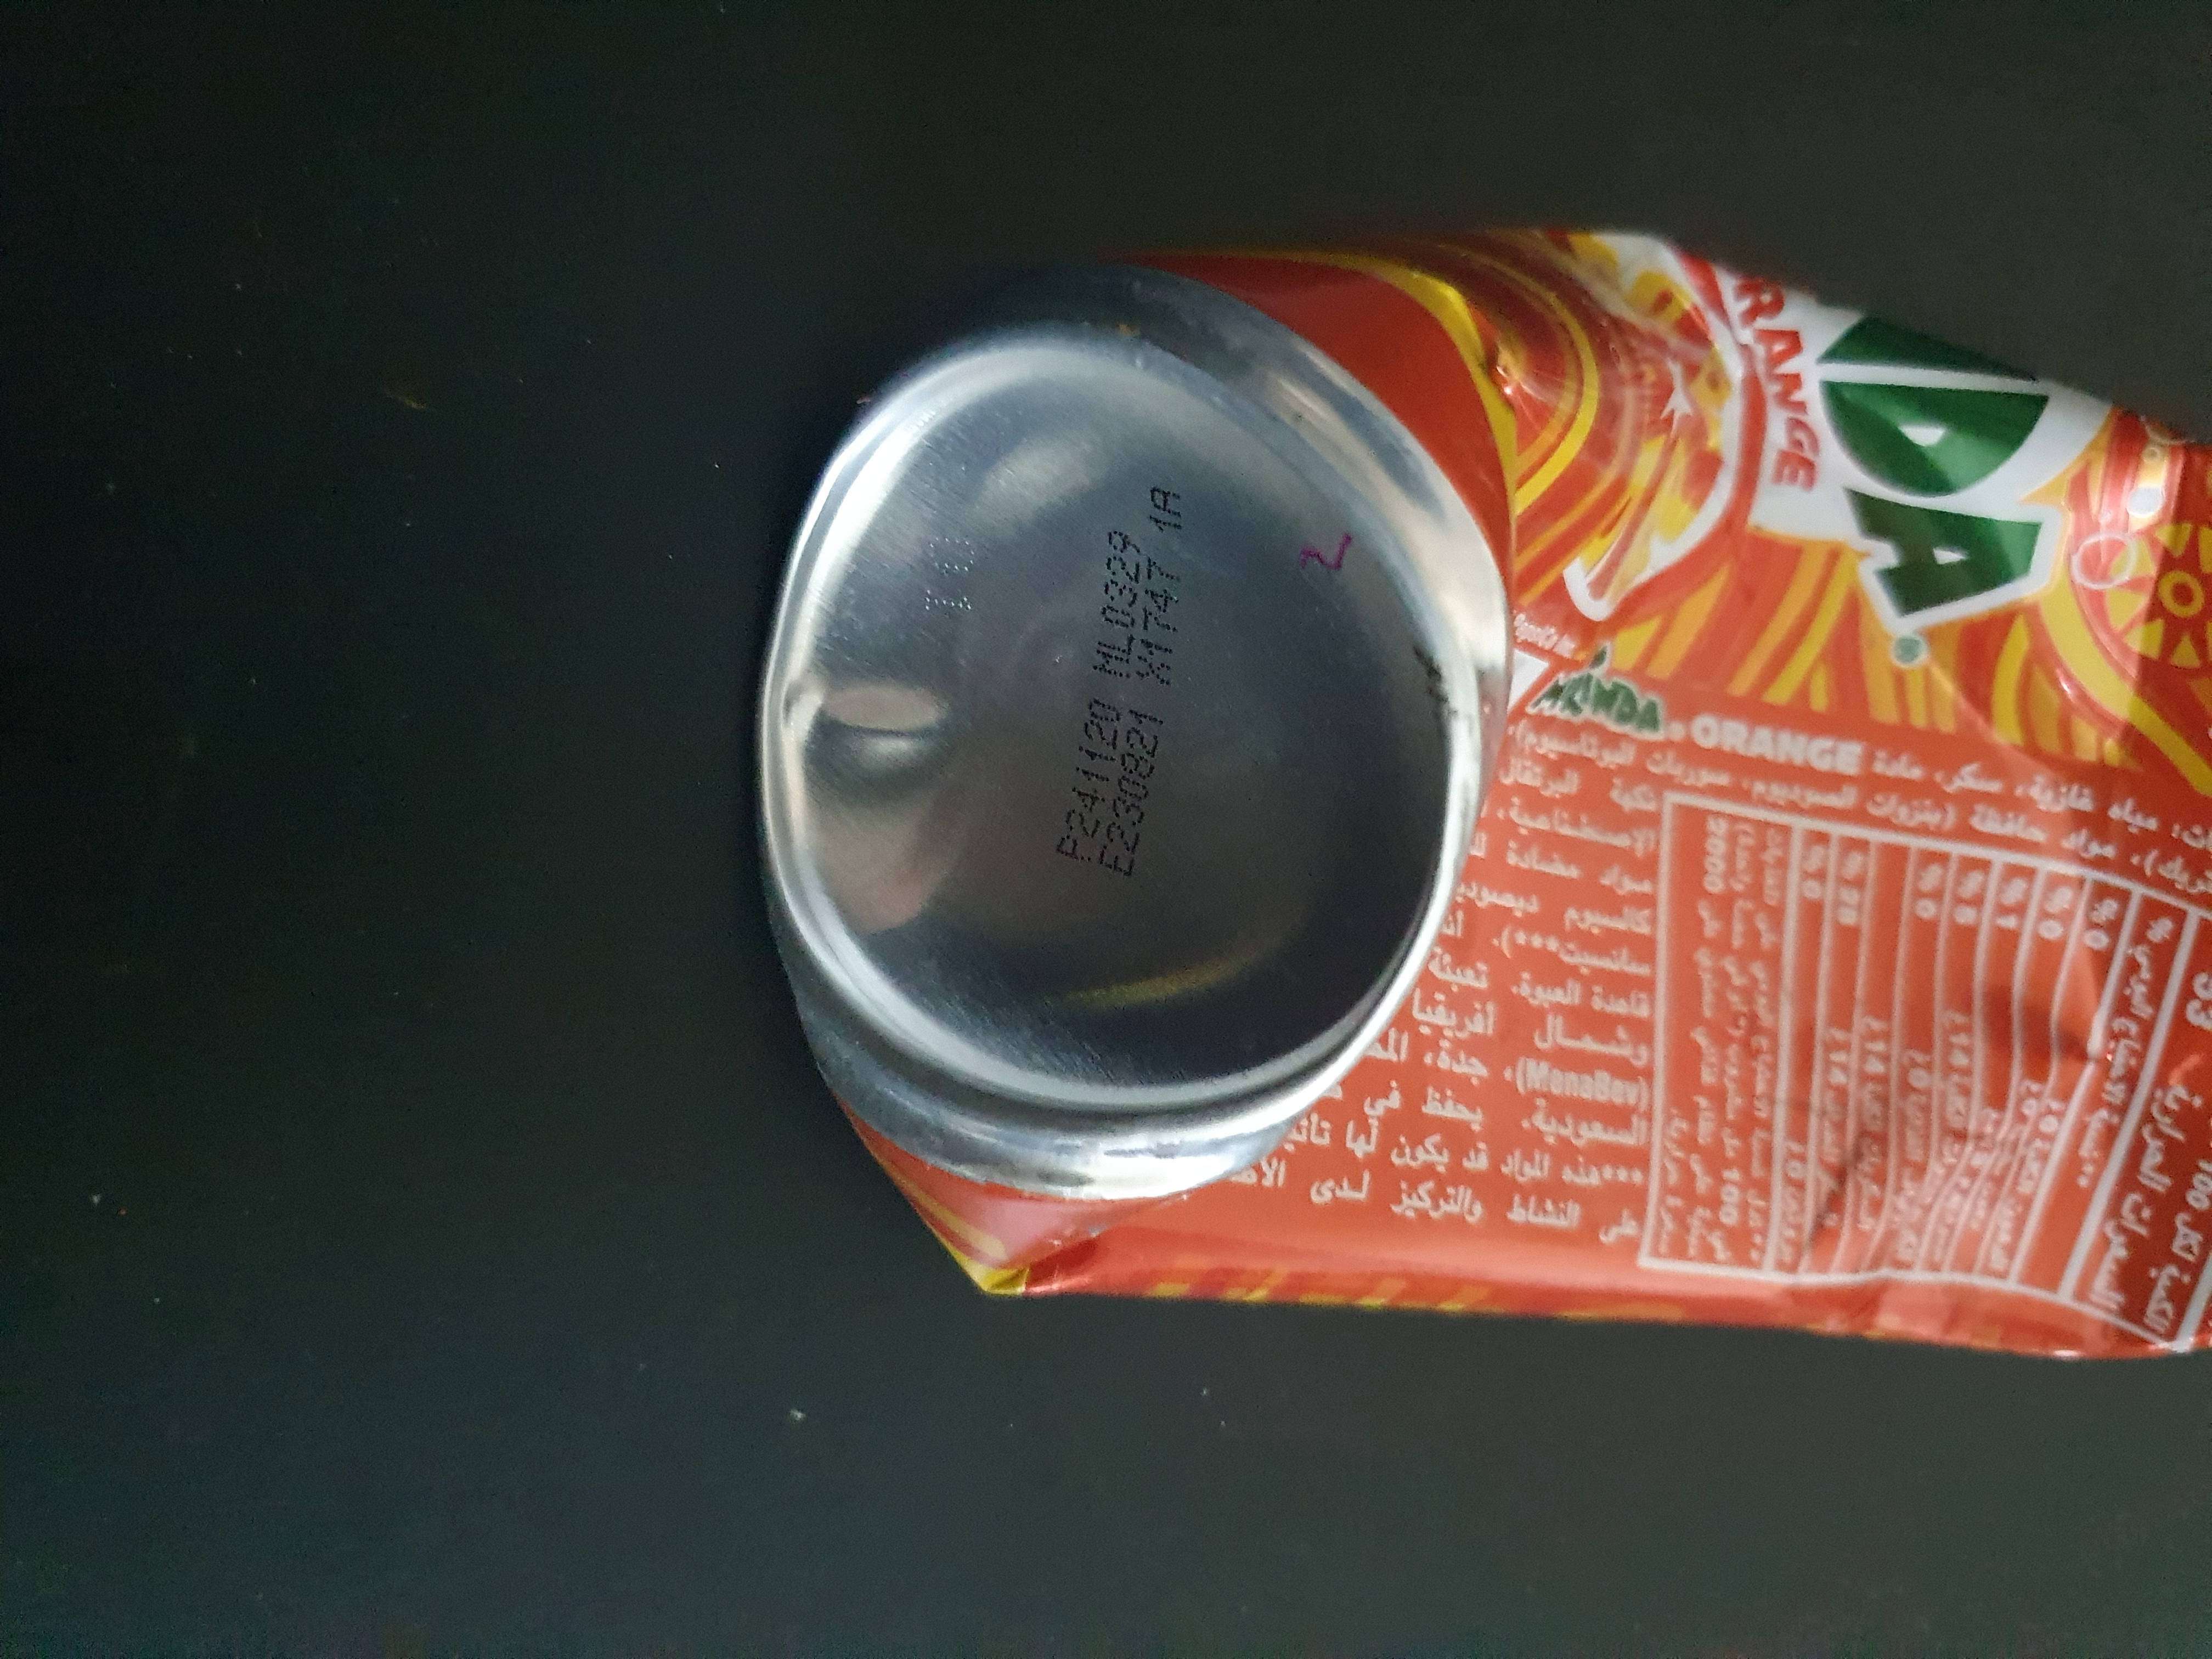metal: (690, 138, 2212, 1425)
